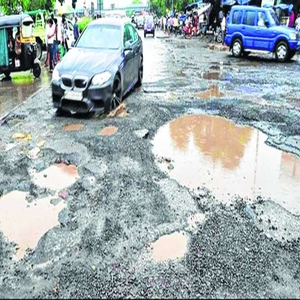pothole: (152, 106, 300, 216), (1, 185, 65, 261), (146, 229, 198, 262), (34, 160, 82, 189), (96, 124, 117, 137), (62, 123, 85, 133)
